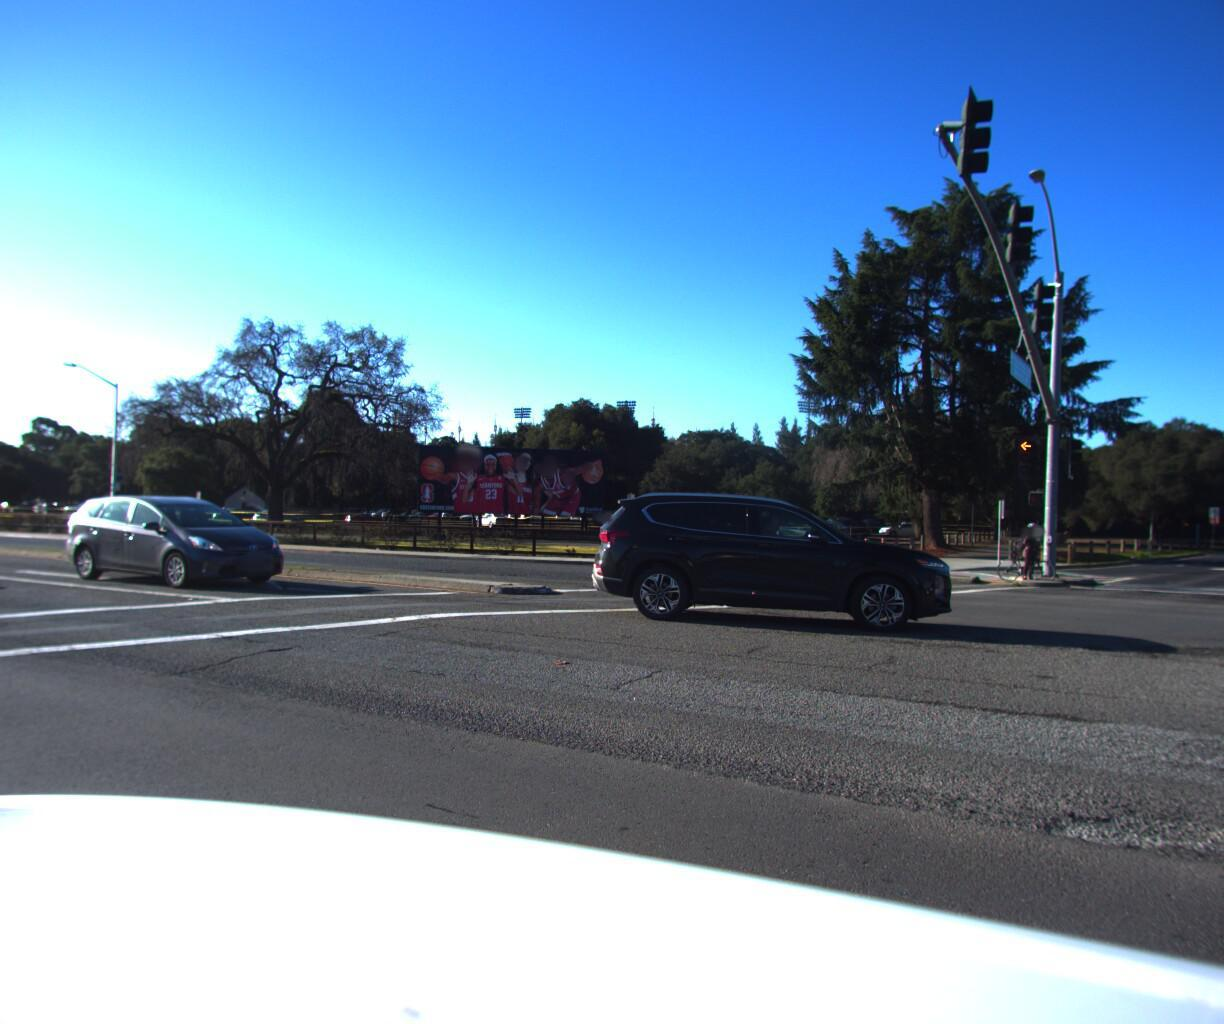bicycle: (984, 515, 1063, 580)
car: (579, 480, 960, 634), (45, 485, 293, 589)
